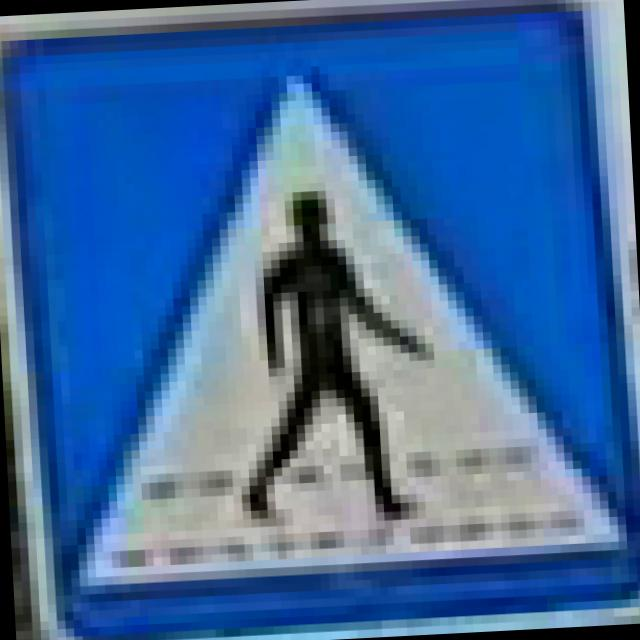pedestriancrossing_sign: (620, 233, 632, 325)
zebracrossing_sign: (0, 0, 640, 640)
